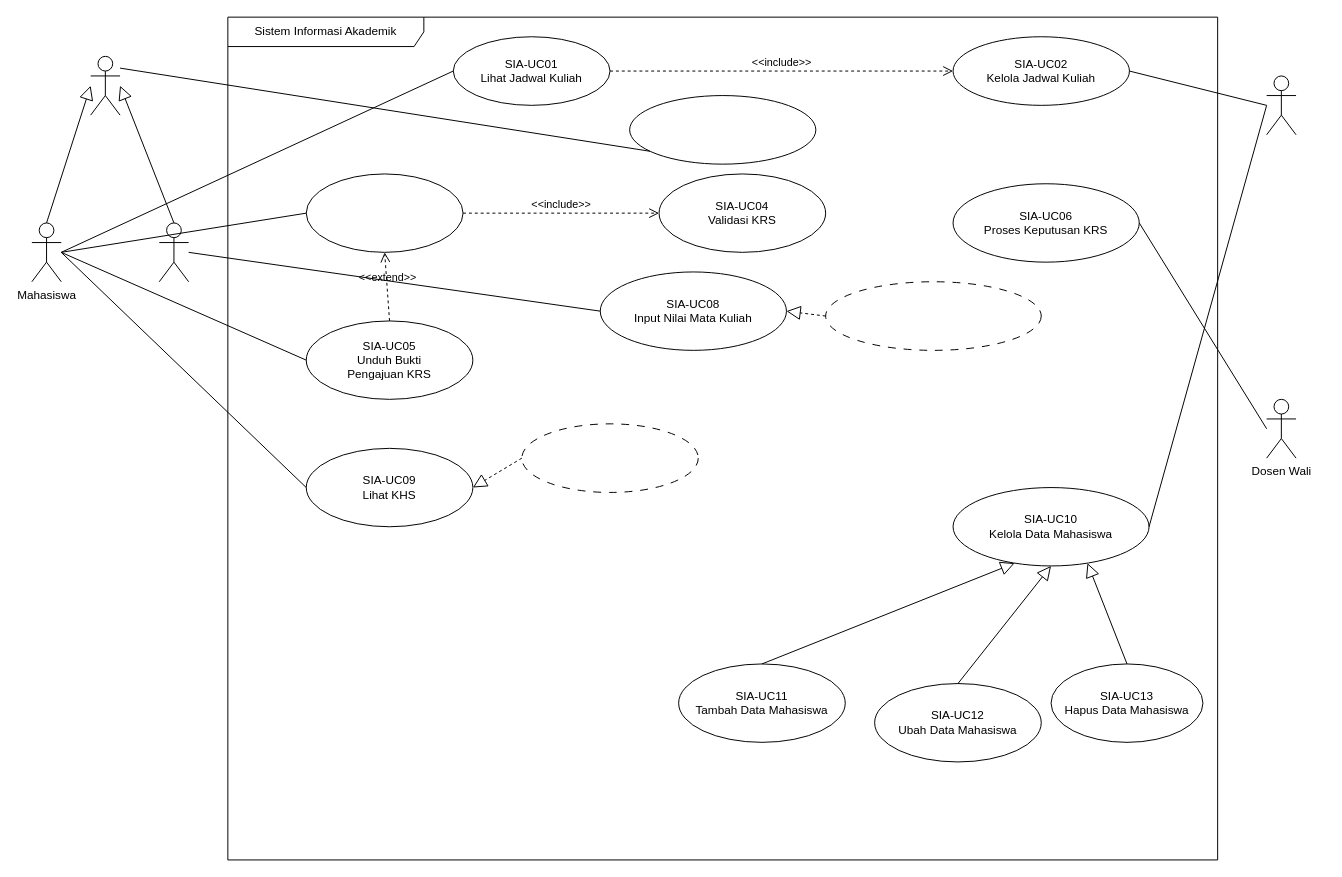
This 1342x877 diagram has some shape labels left out. The centre of each missing label's shape, as x and y in pixels:
"Admin Akademik" goes at point (1281, 105).
"Civitas Akademika" goes at point (105, 85).
"Dosen" goes at point (173, 252).
"SIA-CO01 Input Nilai Mata Kuliah" goes at point (933, 315).
"SIA-CO02 Lihat KHS" goes at point (609, 457).
"SIA-UC03 Ajukan KRS" goes at point (384, 212).
"SIA-UC07 Lihat Kalender Akademik" goes at point (722, 129).
